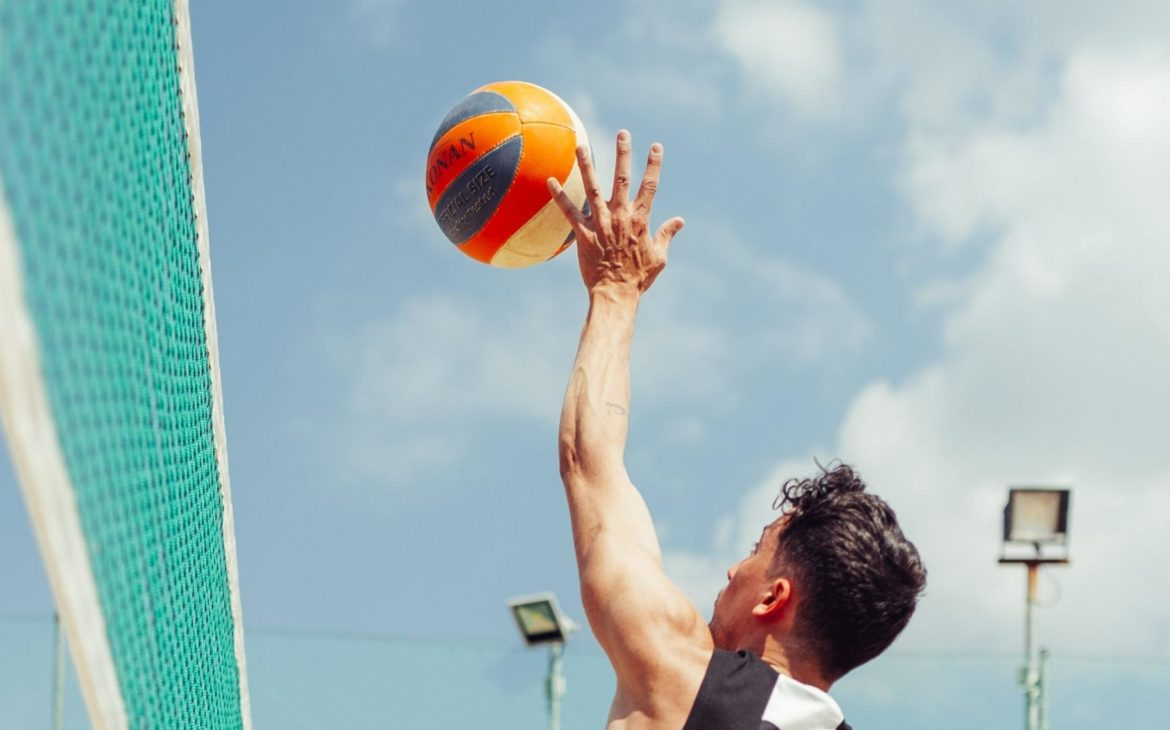ball: (425, 78, 599, 269)
